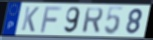5: (104, 6, 126, 37)
8: (125, 7, 143, 35)
9: (63, 6, 81, 34)
F: (40, 5, 64, 34)
K: (20, 6, 41, 34)
R: (81, 8, 104, 35)
